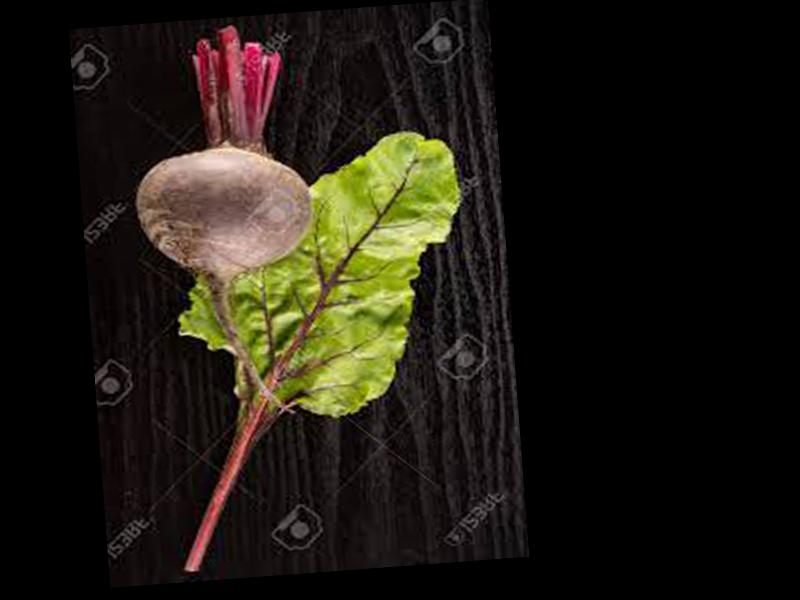Beet: (123, 20, 326, 422)
